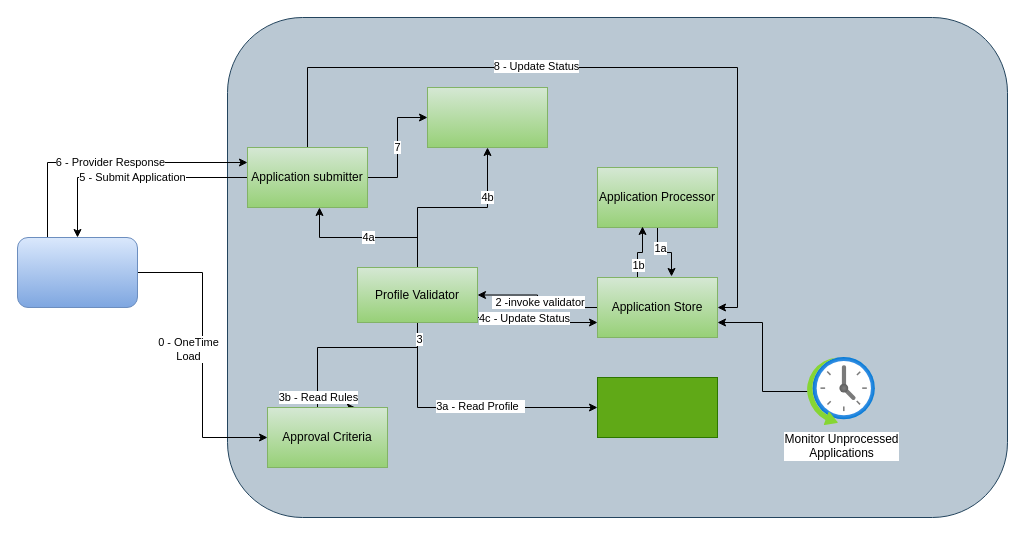
Some shapes in this 1025 by 535 pixel diagram are drawn without their labels. Here are the shapes that lost their labels. From the top down, the box of each, then its label:
(426, 86, 548, 148): Email Client
(16, 236, 138, 308): Scholarship Provider
(596, 376, 718, 438): Student Records
